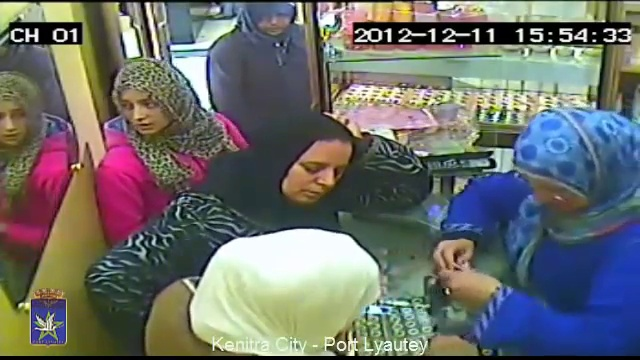face: (126, 89, 161, 135), (0, 102, 26, 143), (252, 7, 290, 32)
